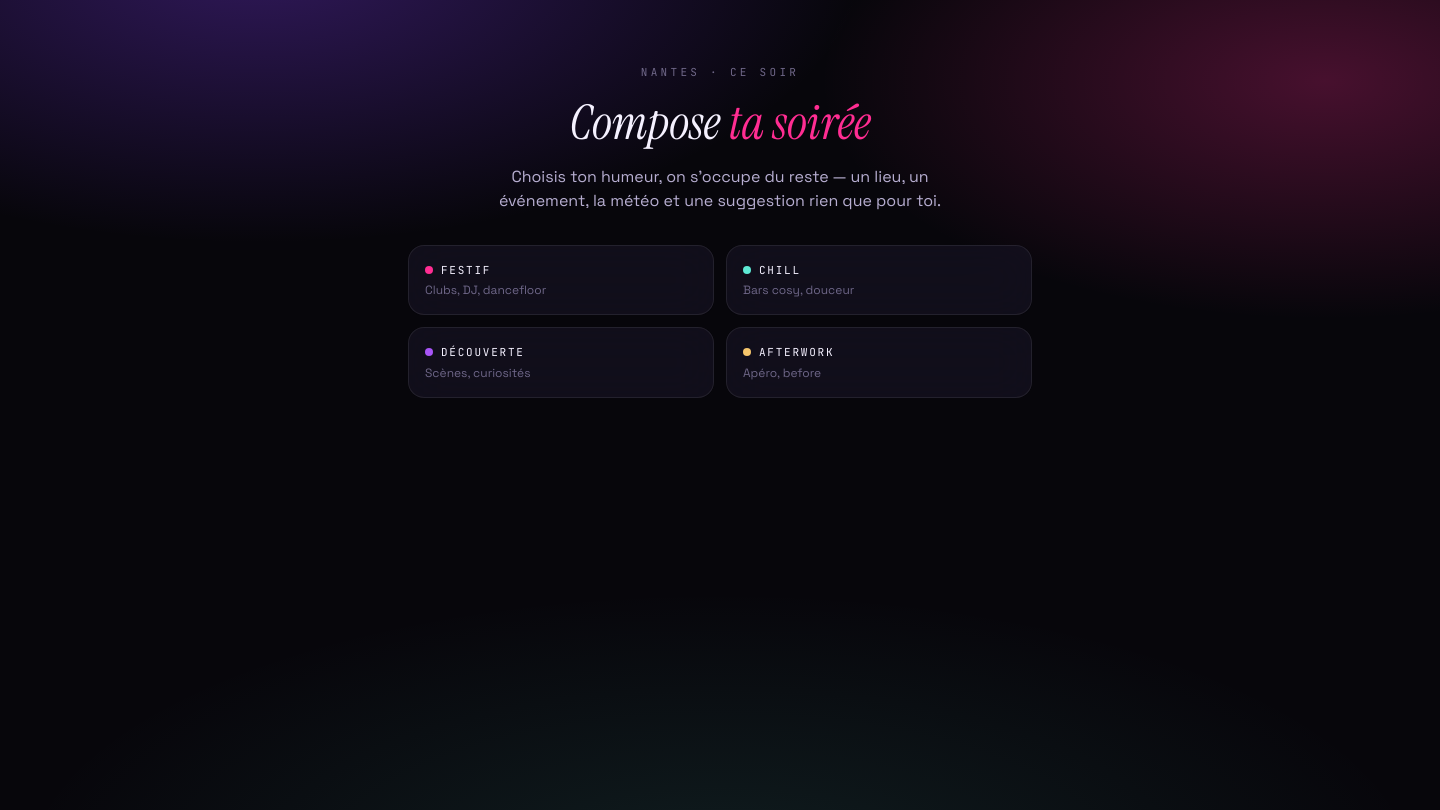
Test: SoireePage › shows an empty state when no venue matches (404)
This screenshot has width=1440, height=810.
Click the button with test id "soiree-mood" at (780, 270), box left=726, top=244, right=1032, bottom=315
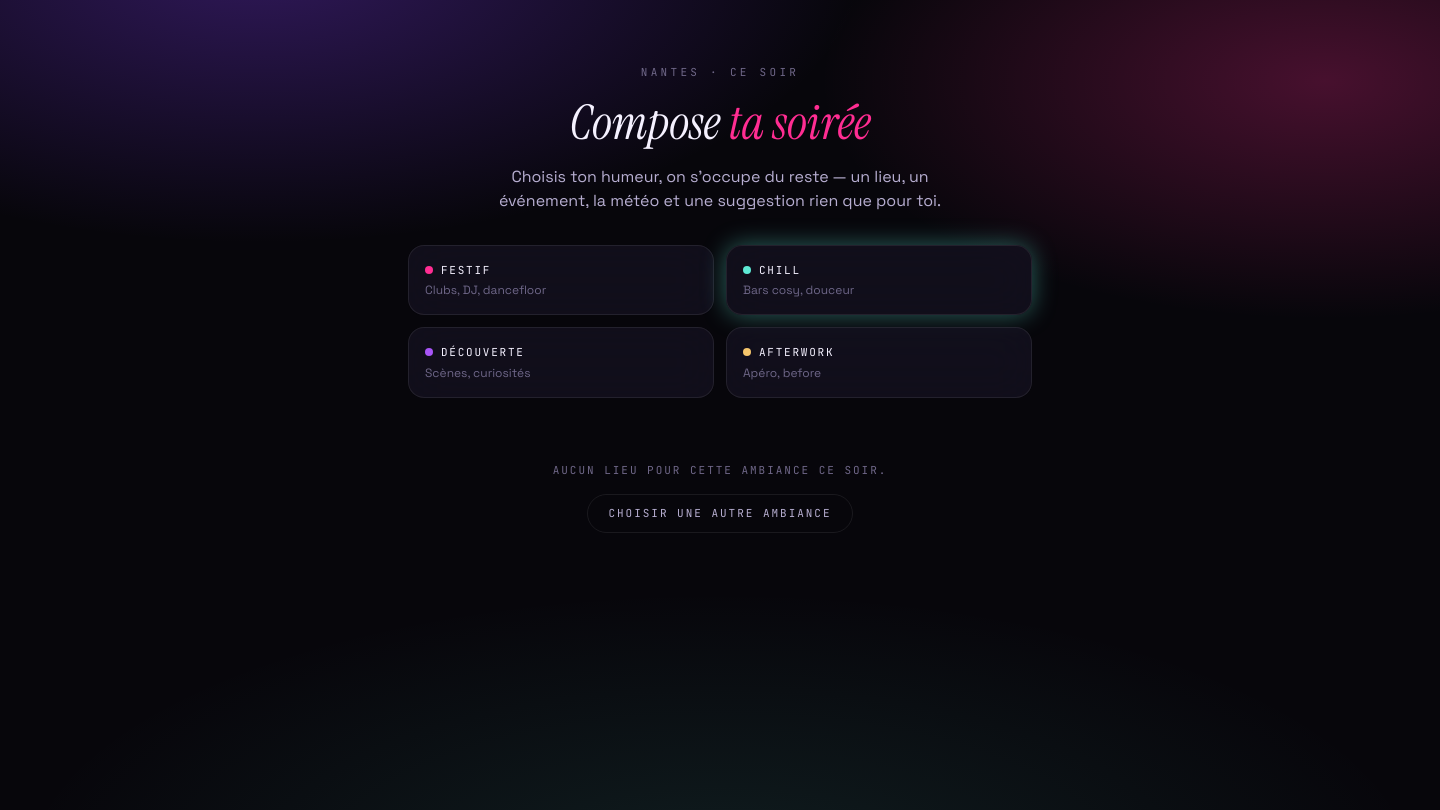
expect the element with test id "soiree-empty" is shown: met, box left=553, top=462, right=887, bottom=532
